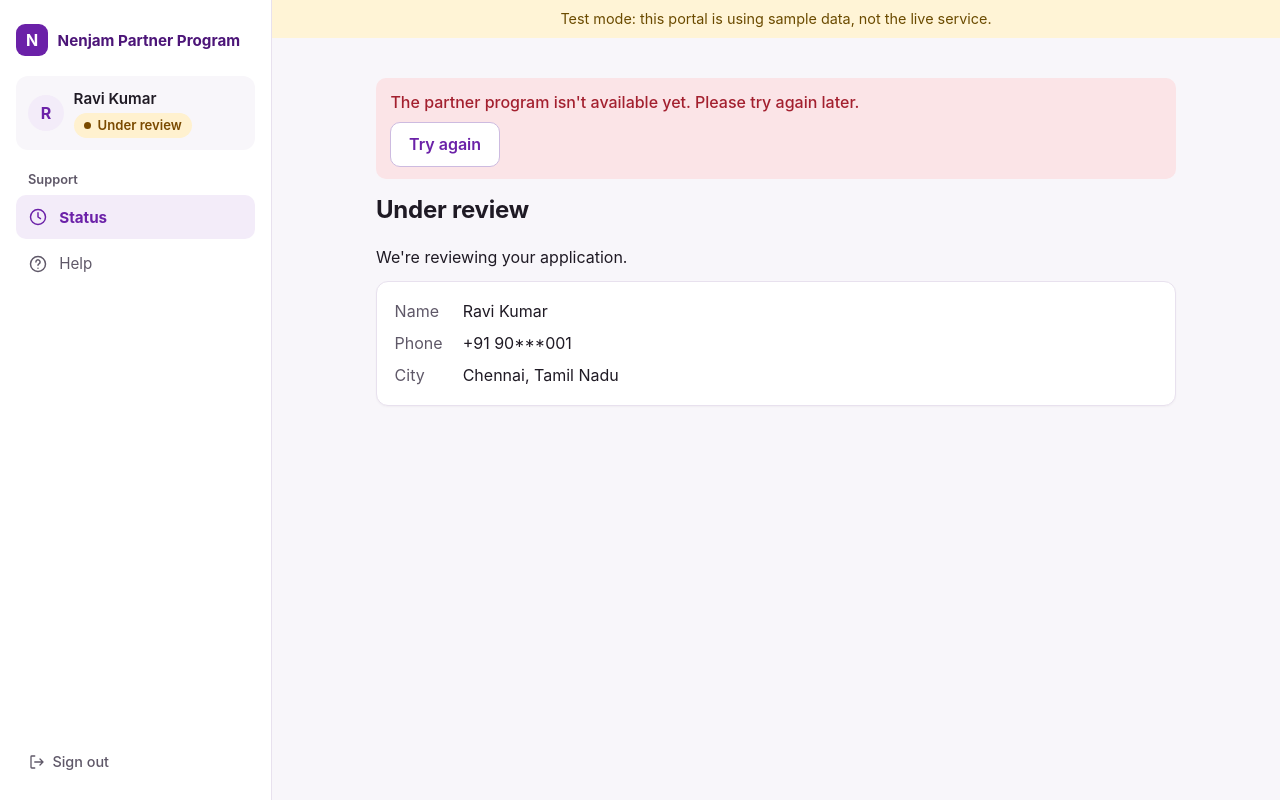
Test: /agent/config failures › config retry succeeds: the error clears without signing in again
The image size is (1280, 800).
Click the button "Try again" at (445, 144), box [390, 122, 500, 167]
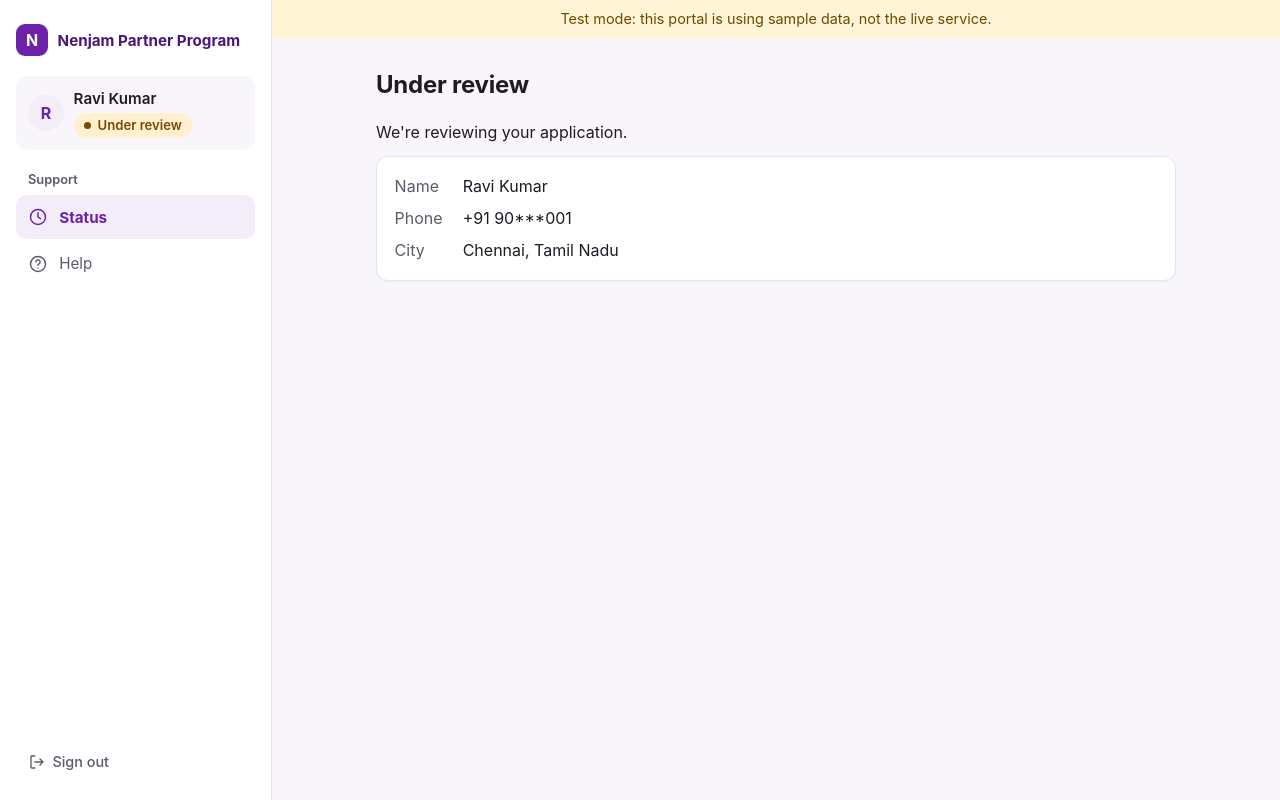
Check: the text "We're reviewing your application." is shown, box [376, 122, 628, 142]
Check: the message "The partner program isn't available yet. Please try again later. Try again" is gone
